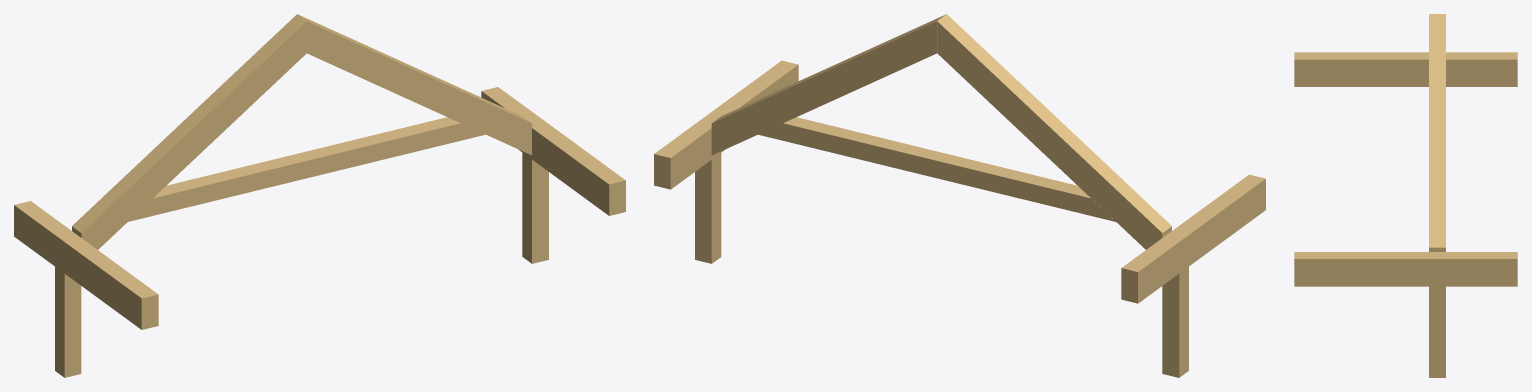
The model's file is truss.glb.
3 renders of one model, left to right at view 1: azimuth 30°, elevation 25°; view 2: azimuth 150°, elevation 25°; view 3: azimuth 270°, elevation 25°, orthographic. The views are drawn at different scales.
Parts seen in each view (by area): view 1: FamilyInstance Structural Framing DBSD_Dimension Lumber <291 (×4), FamilyInstance Structural Framing DBSD_Dimension Lumber <304, FamilyInstance Structural Columns DBSD_Timber-Column <295747, FamilyInstance Structural Columns DBSD_Timber-Column <295745; view 2: FamilyInstance Structural Framing DBSD_Dimension Lumber <291 (×4), FamilyInstance Structural Framing DBSD_Dimension Lumber <304, FamilyInstance Structural Columns DBSD_Timber-Column <295747, FamilyInstance Structural Columns DBSD_Timber-Column <295745; view 3: FamilyInstance Structural Framing DBSD_Dimension Lumber <291 (×3), FamilyInstance Structural Columns DBSD_Timber-Column <295747.
Part boxes in pixels (x1,y1,x2,y2): FamilyInstance Structural Framing DBSD_Dimension Lumber <291 (×4): [14, 14, 625, 329]; FamilyInstance Structural Framing DBSD_Dimension Lumber <304: [128, 117, 485, 221]; FamilyInstance Structural Columns DBSD_Timber-Column <295747: [522, 152, 548, 263]; FamilyInstance Structural Columns DBSD_Timber-Column <295745: [55, 267, 81, 377]; FamilyInstance Structural Framing DBSD_Dimension Lumber <291 (×4): [654, 14, 1265, 303]; FamilyInstance Structural Framing DBSD_Dimension Lumber <304: [758, 117, 1115, 221]; FamilyInstance Structural Columns DBSD_Timber-Column <295747: [695, 153, 721, 263]; FamilyInstance Structural Columns DBSD_Timber-Column <295745: [1162, 267, 1188, 377]; FamilyInstance Structural Framing DBSD_Dimension Lumber <291 (×3): [1294, 14, 1517, 286]; FamilyInstance Structural Columns DBSD_Timber-Column <295747: [1429, 286, 1445, 377].
Bounding box in the file's own units: 18.07 × 10.63 × 8.26.
